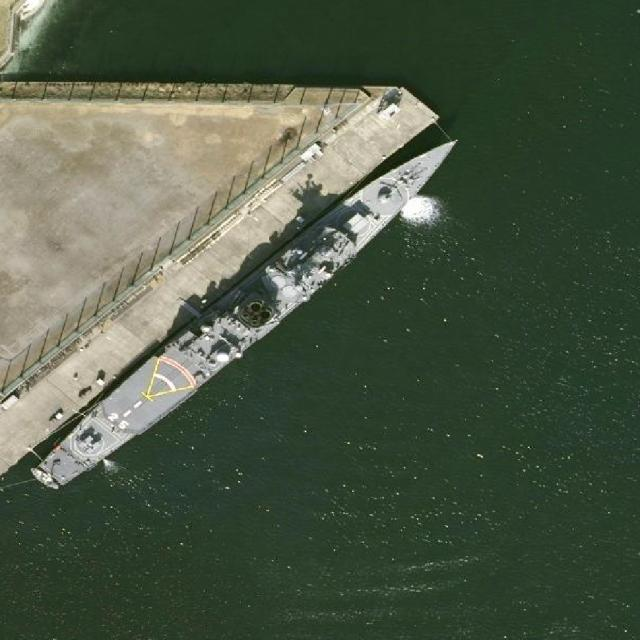Destroyer: (21, 119, 477, 503)
